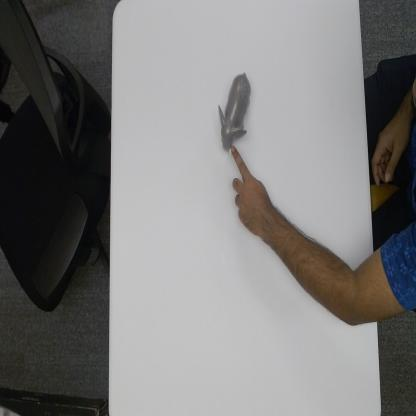Arm: (271, 199, 375, 332)
Elephant: (217, 70, 252, 155)
Hand: (232, 146, 272, 243)
